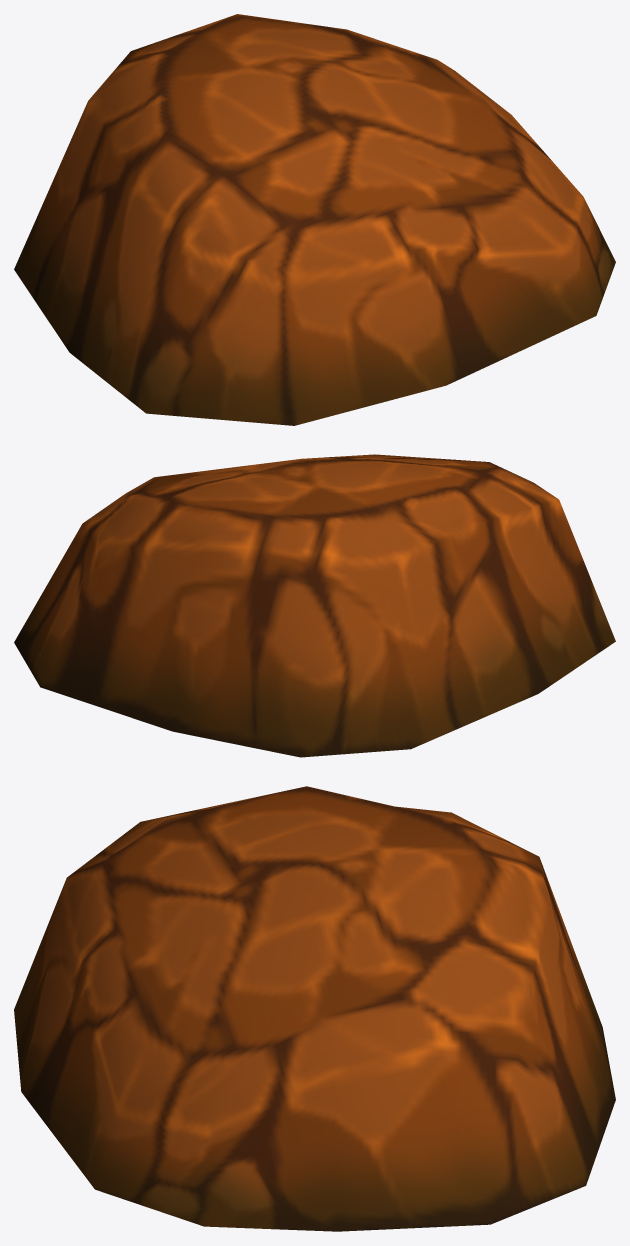
File: Rock_03.FBX
3 renders of one model, top to bottom at view 1: azimuth 30°, elevation 25°; view 2: azimuth 150°, elevation 25°; view 3: azimuth 270°, elevation 25°, orthographic. The views are drawn at different scales.
Parts seen in each view (by area): view 1: Rock_03; view 2: Rock_03; view 3: Rock_03.
Part boxes in pixels (x1,y1,x2,y2): Rock_03: (14,14,615,425); Rock_03: (14,454,615,757); Rock_03: (14,786,615,1231).
Size of the model in its own units: 223 by 85.15 by 207.
